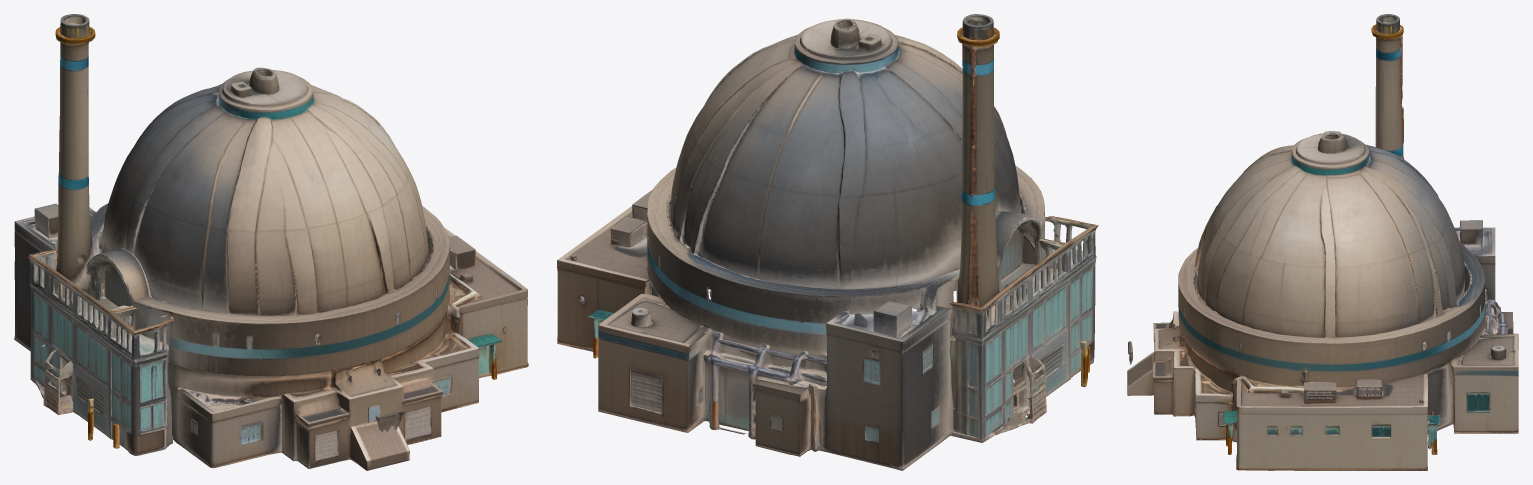
File: lm_nuclear_dome_nb.glb
3 views of the same model, side by side, from view 1: azimuth 30°, elevation 25°; view 2: azimuth 150°, elevation 25°; view 3: azimuth 270°, elevation 25° (orthographic). The views are drawn at different scales.
Visible parts, largest first — view 1: geometry_0; view 2: geometry_0; view 3: geometry_0.
Part boxes in pixels (box(x1,y1,x2,y2)): geometry_0: box(14, 14, 528, 470); geometry_0: box(557, 14, 1098, 470); geometry_0: box(1127, 14, 1518, 470).
Bounding box in the file's own units: 68.97 × 60 × 69.38.
Materials: 1 (1 with a texture image).
